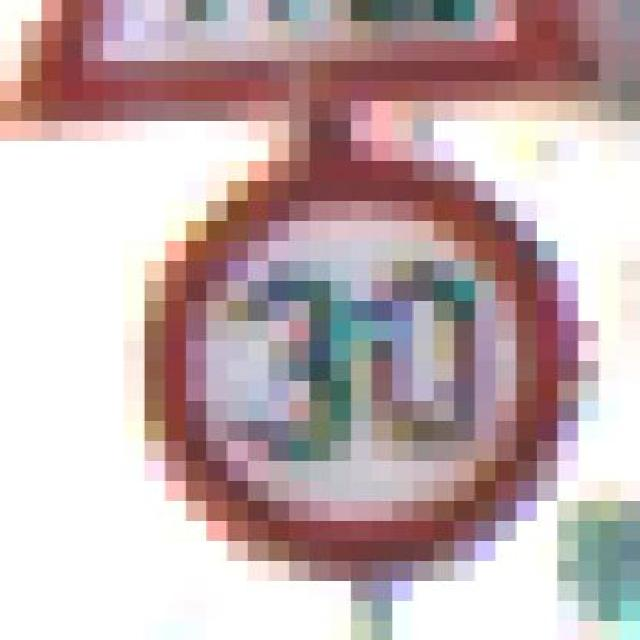Speed Limit 30 KMPh: (62, 160, 620, 580)
